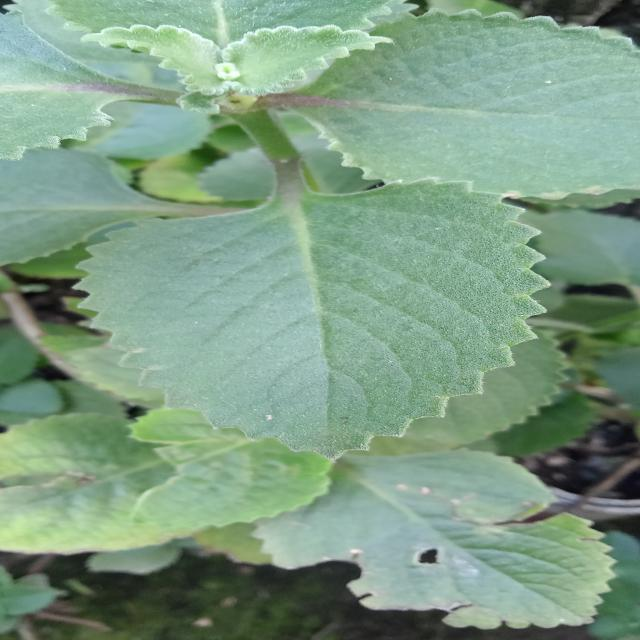Oregano: (59, 165, 575, 466)
